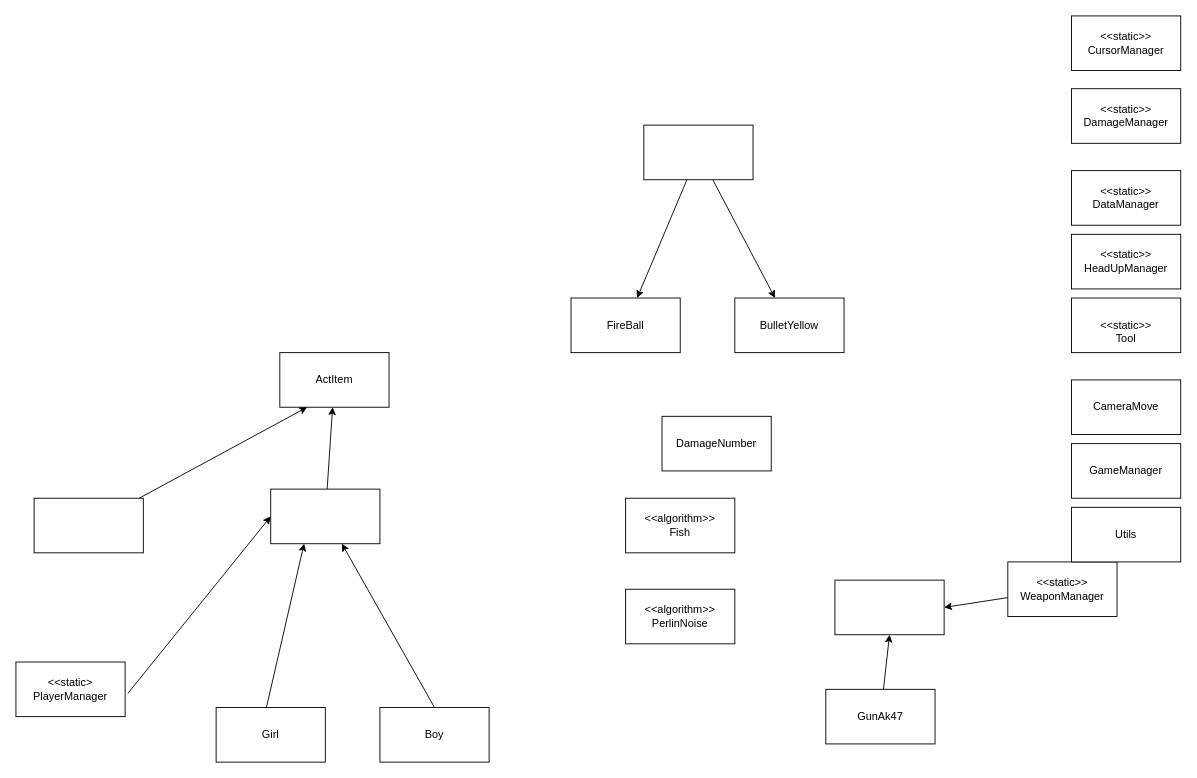
Some shapes in this 1197 by 778 pixel diagram are drawn without their labels. The centre of each missing label's shape, as x and y in pixels:
Bullet: the point at 698,152
Player: the point at 325,516
Slime: the point at 88,525
Weapon: the point at 889,607
